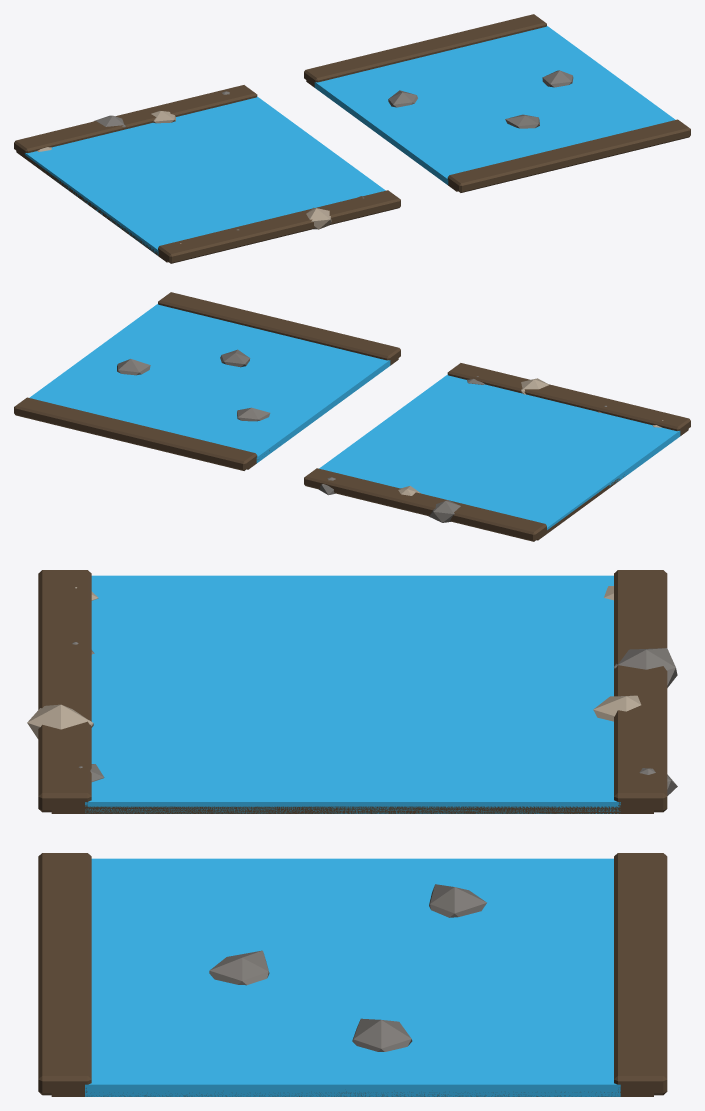
The model's file is sungai_v001.glb.
The picture shows the model from 3 angles, top to bottom: view 1: azimuth 30°, elevation 25°; view 2: azimuth 150°, elevation 25°; view 3: azimuth 270°, elevation 25°; orthographic projection. The views are drawn at different scales.
Parts seen in each view (by area): view 1: Sungai_Lurus, Sungai_Batu; view 2: Sungai_Lurus, Sungai_Batu; view 3: Sungai_Lurus, Sungai_Batu.
Boxes of the visible parts, x1,y1,x2,y2 form: Sungai_Lurus: (14,85,400,263); Sungai_Batu: (304,14,690,192); Sungai_Lurus: (304,363,690,541); Sungai_Batu: (14,292,400,470); Sungai_Lurus: (27,570,677,813); Sungai_Batu: (38,853,667,1096).
Size of the model in its own units: 9 by 0.2626 by 4.86.
